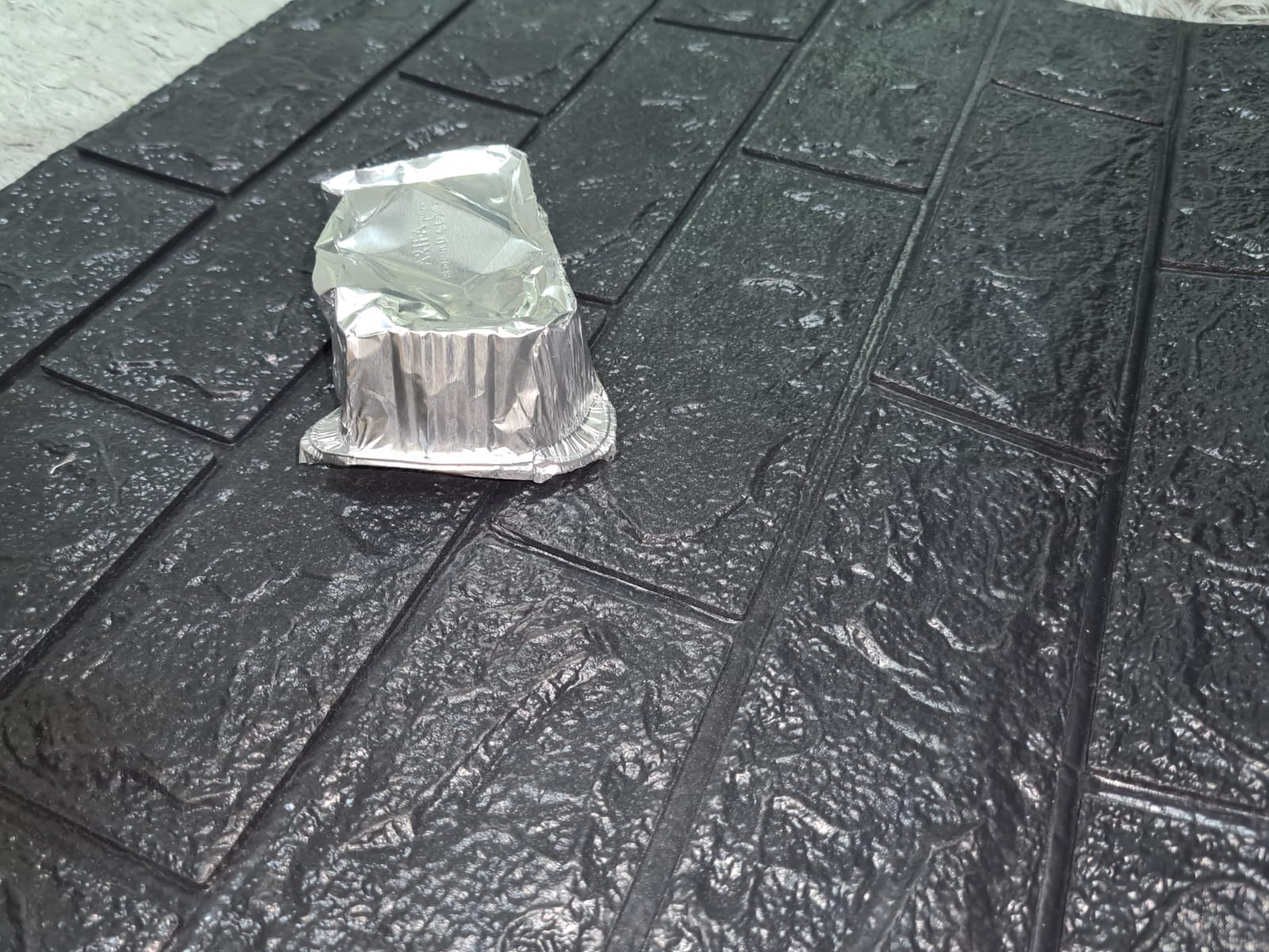Metal: (289, 139, 619, 486)
